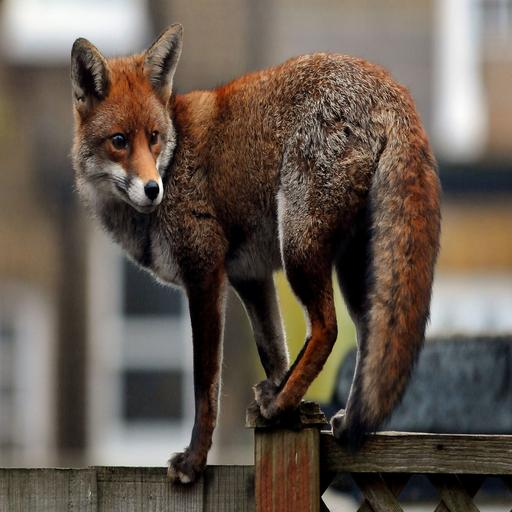Fox: (63, 26, 446, 495)
